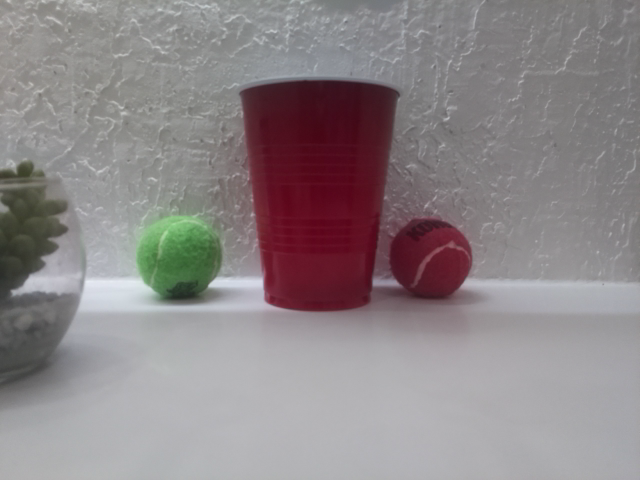green-ball: (135, 213, 224, 301)
red-ball: (388, 216, 474, 300)
